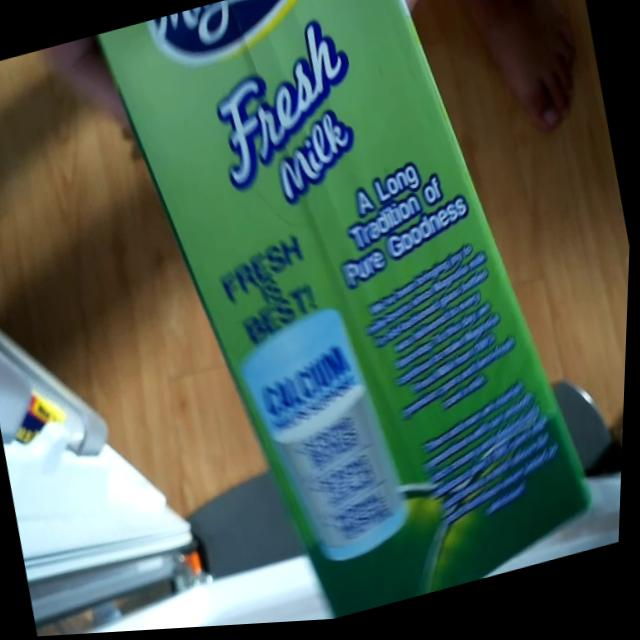milk: (80, 0, 627, 635)
